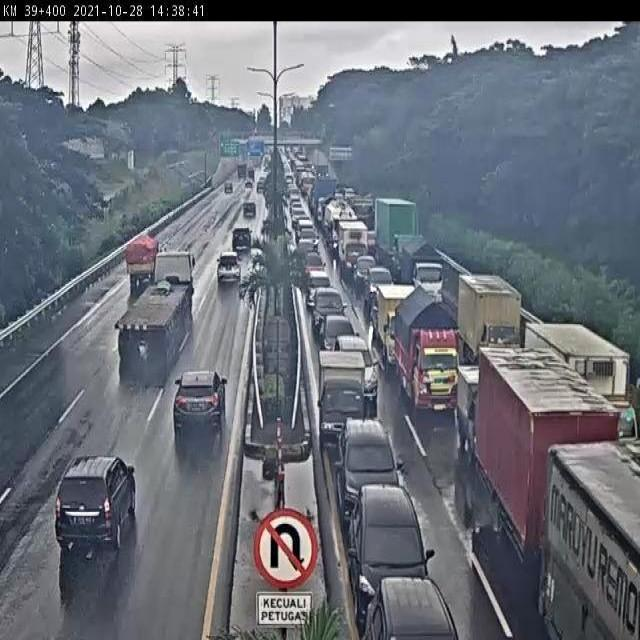big truck: (474, 351, 616, 553), (548, 450, 640, 640), (108, 253, 192, 383)
car: (36, 463, 128, 560), (355, 480, 429, 583), (363, 577, 462, 640), (176, 363, 243, 456), (344, 420, 392, 493), (365, 269, 396, 312), (313, 288, 346, 328), (305, 268, 332, 307), (214, 259, 241, 293), (232, 226, 255, 262), (358, 255, 378, 292)
small truck: (522, 316, 640, 444), (402, 288, 462, 405), (320, 351, 371, 444), (459, 274, 523, 342), (378, 287, 442, 353), (333, 331, 386, 406), (377, 192, 426, 263), (402, 242, 452, 294), (123, 238, 155, 294), (320, 317, 354, 343)
